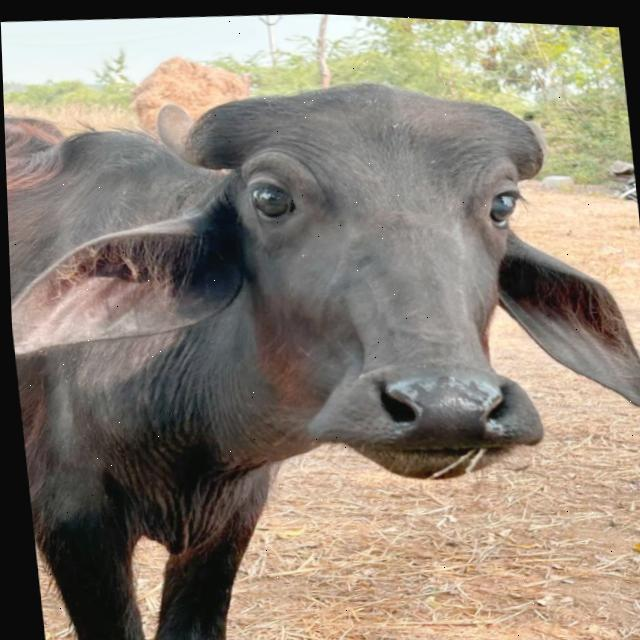Buffalo: (2, 45, 640, 640)
